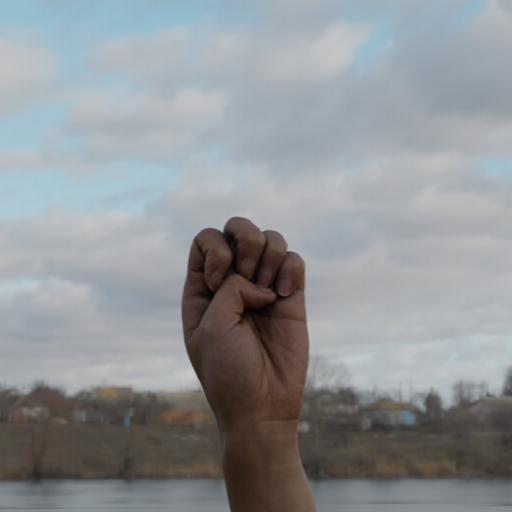E: (179, 214, 315, 428)
